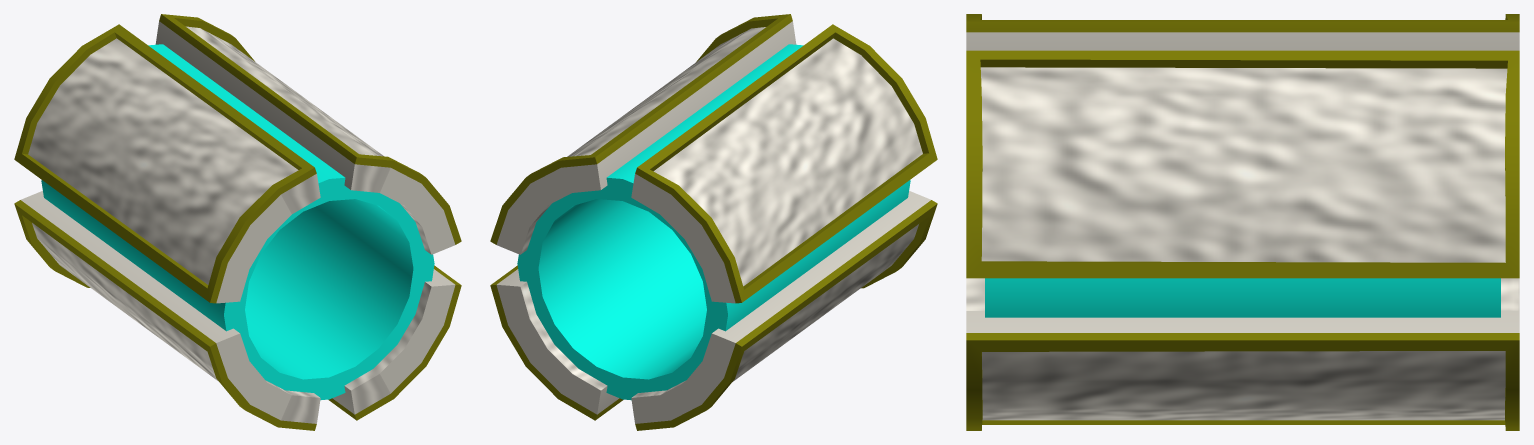
Rendered from f_taihou6.fbx.
The picture shows the model from 3 angles, left to right: view 1: azimuth 30°, elevation 25°; view 2: azimuth 150°, elevation 25°; view 3: azimuth 270°, elevation 25°; orthographic projection. The views are drawn at different scales.
Visible parts, largest first — view 1: f_taihou_2, f_taihou_2desactived; view 2: f_taihou_2, f_taihou_2desactived; view 3: f_taihou_2, f_taihou_2desactived.
Part boxes in pixels (x1,y1,x2,y2): f_taihou_2: (14,14,461,430); f_taihou_2desactived: (41,44,434,400); f_taihou_2: (490,14,937,430); f_taihou_2desactived: (517,44,910,400); f_taihou_2: (966,14,1519,430); f_taihou_2desactived: (985,278,1500,317).
Size of the model in its own units: 35.02 by 35.03 by 47.17.
Materials: 4 (4 with a texture image).
